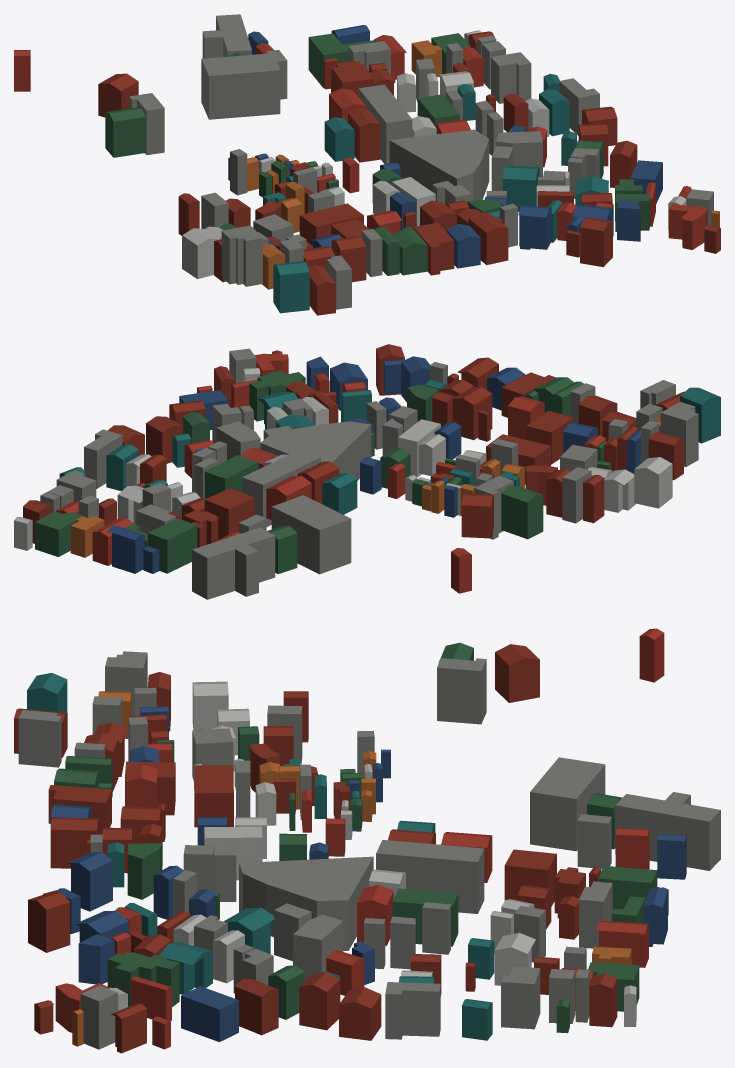
File: near-17-109439-59473.235e5253.glb
3 renders of one model, top to bottom at view 1: azimuth 30°, elevation 25°; view 2: azimuth 150°, elevation 25°; view 3: azimuth 270°, elevation 25°, orthographic. The views are drawn at different scales.
Size of the model in its own units: 307 by 77.03 by 321.
